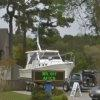Boat: (17, 44, 76, 86)
